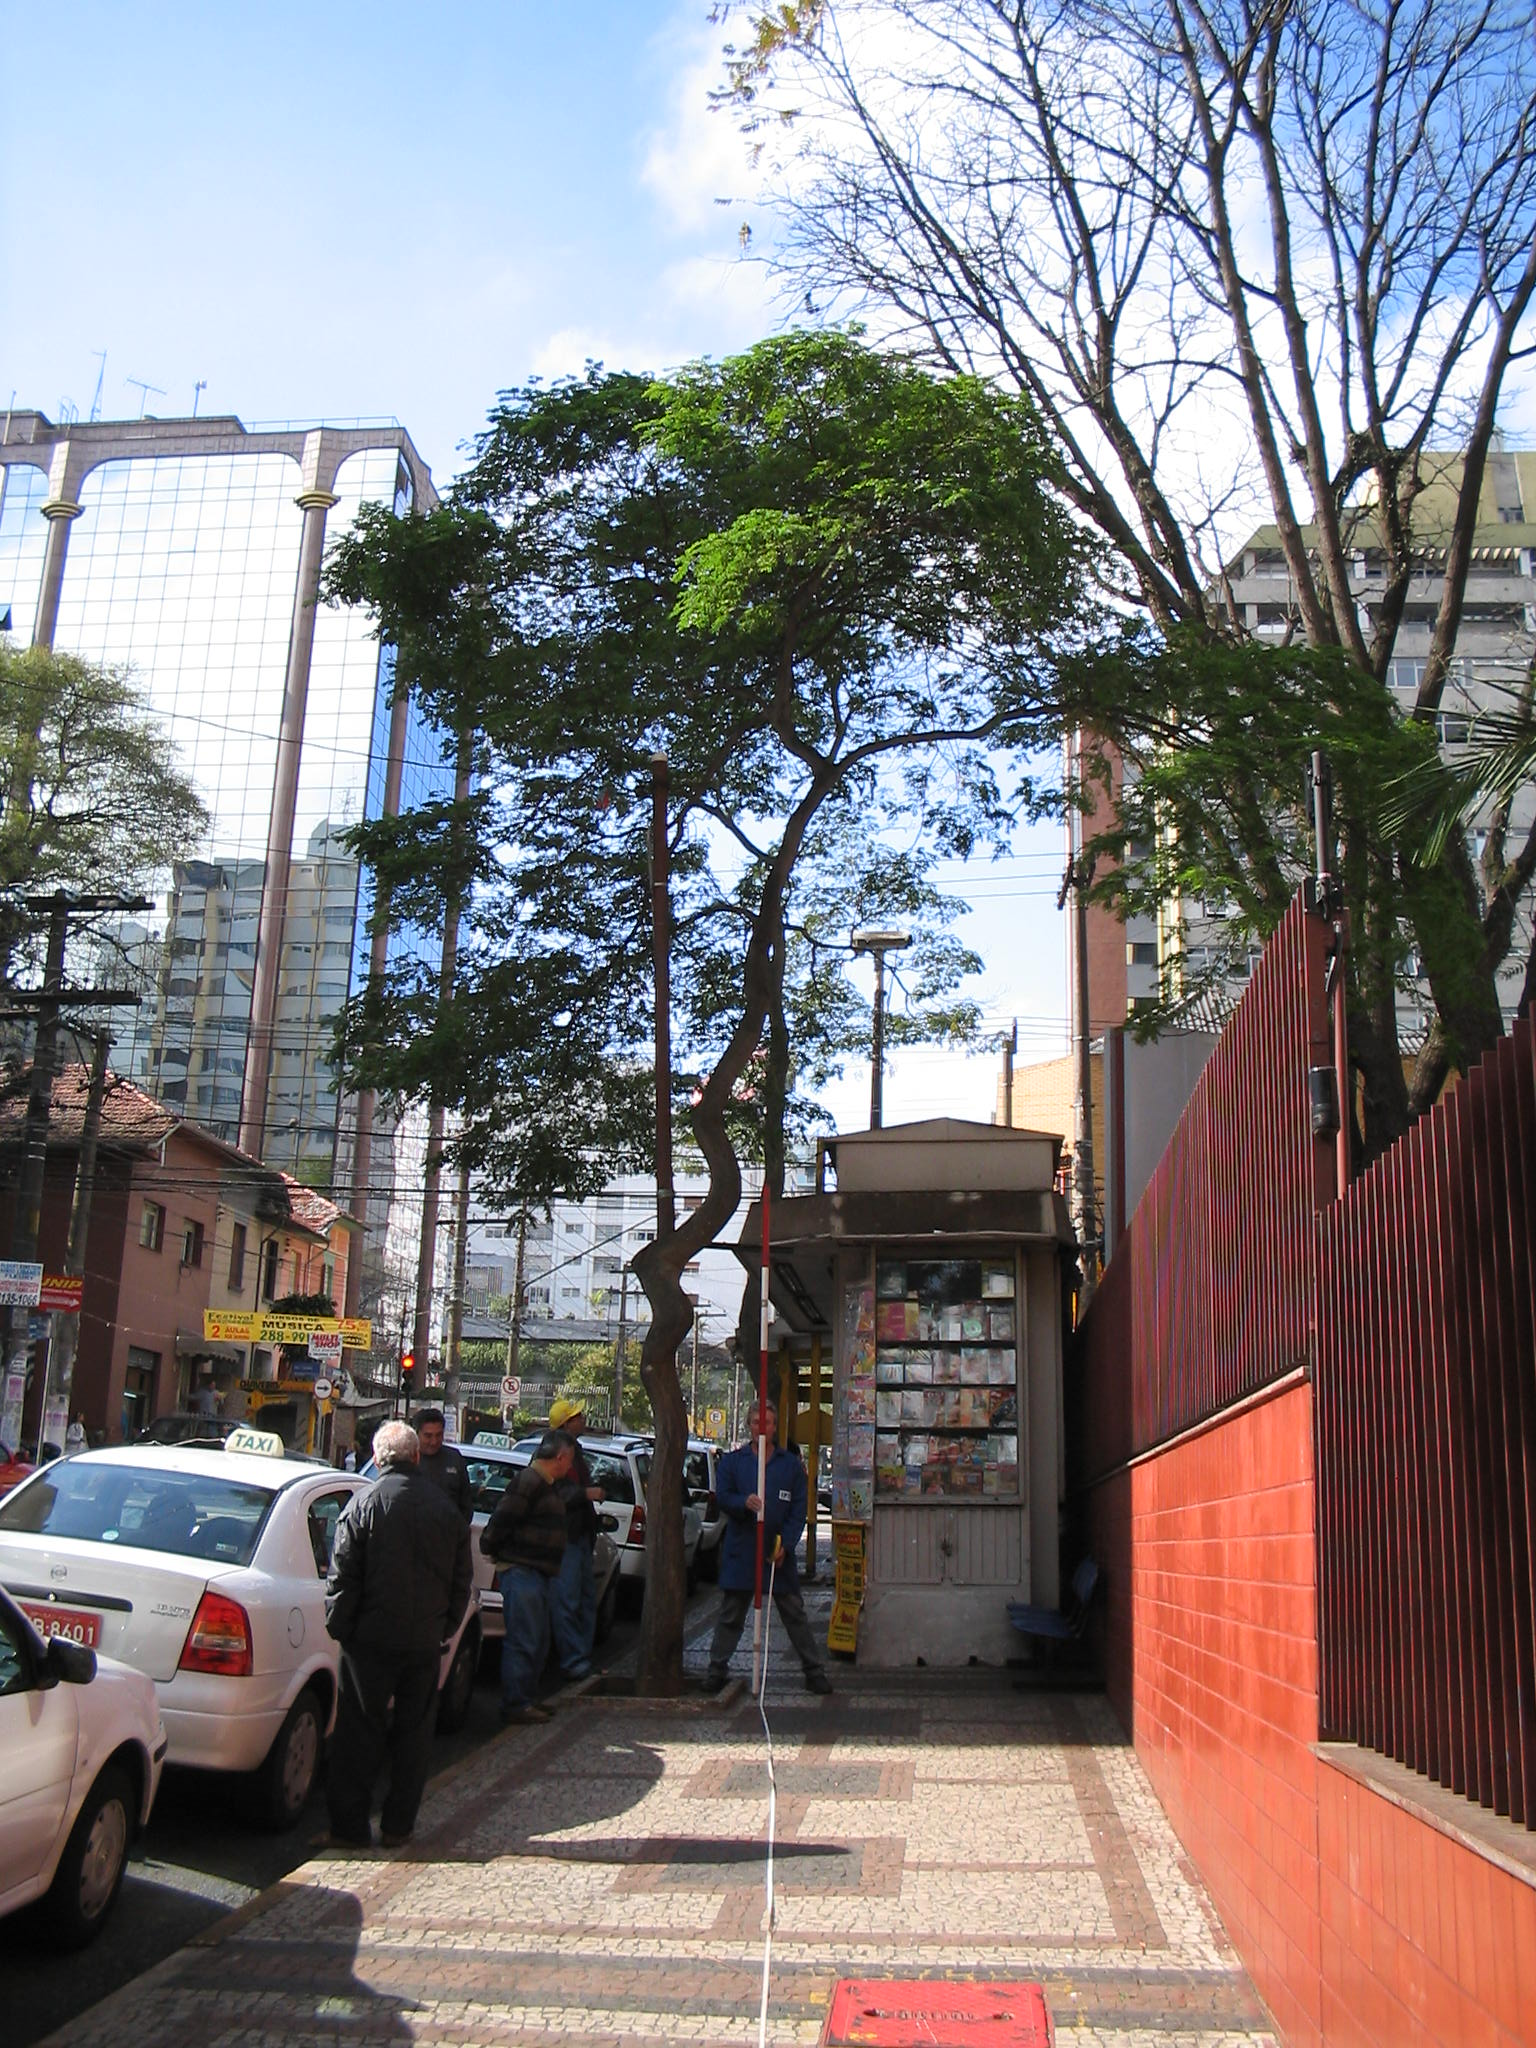crown: (316, 337, 1155, 818)
stem: (600, 1253, 724, 1692)
stick: (744, 1184, 783, 1700)
tree: (316, 337, 1163, 1700)
